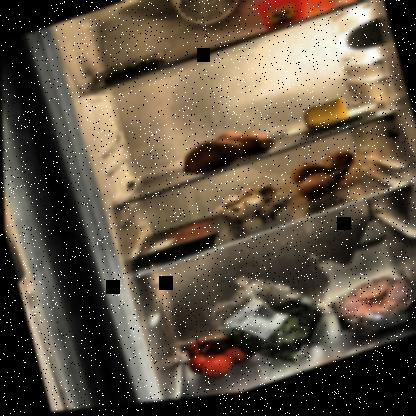beef: (151, 217, 216, 262)
blueberries: (95, 51, 170, 89)
butter: (252, 0, 350, 40)
cheese: (300, 100, 352, 141)
chicken: (324, 271, 415, 356)
mushrooms: (212, 179, 302, 250)
onion: (286, 152, 358, 210)
spinach: (203, 280, 334, 393)
sweet_potato: (173, 121, 282, 190)
tomato: (180, 322, 261, 391)
